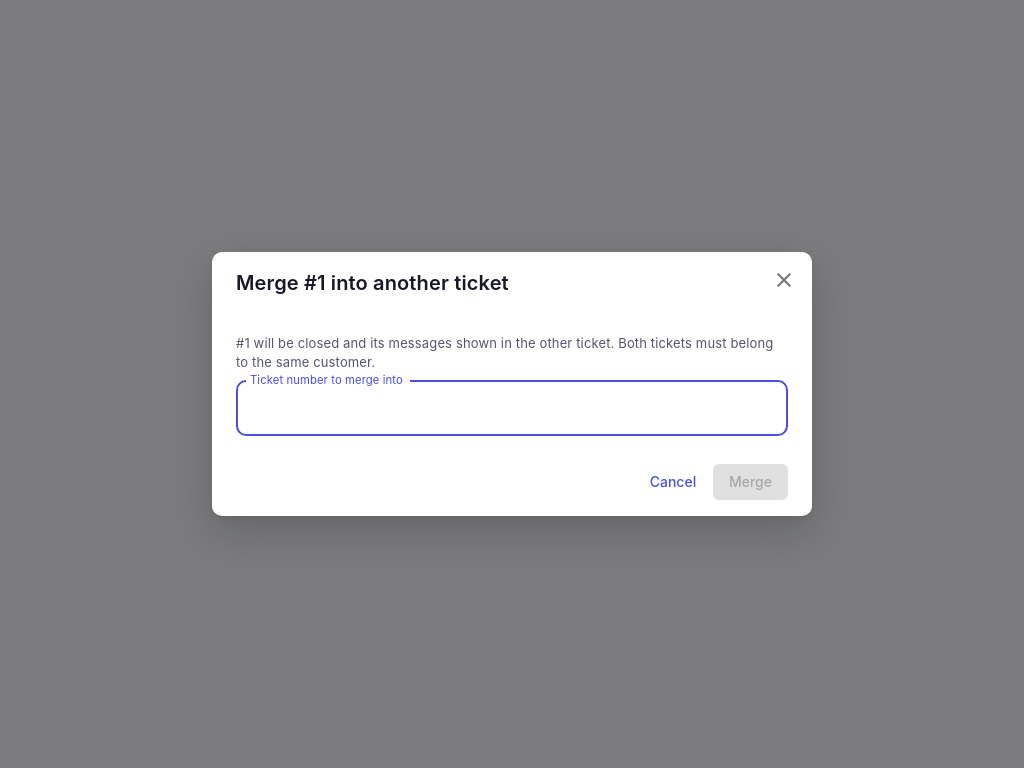
Scenario: MergeTicketDialog › shows the error the merge rejects with
The image size is (1024, 768).
Type "2" into the field labelled "Ticket number to merge into". click: (512, 408)
box: [236, 381, 788, 436]
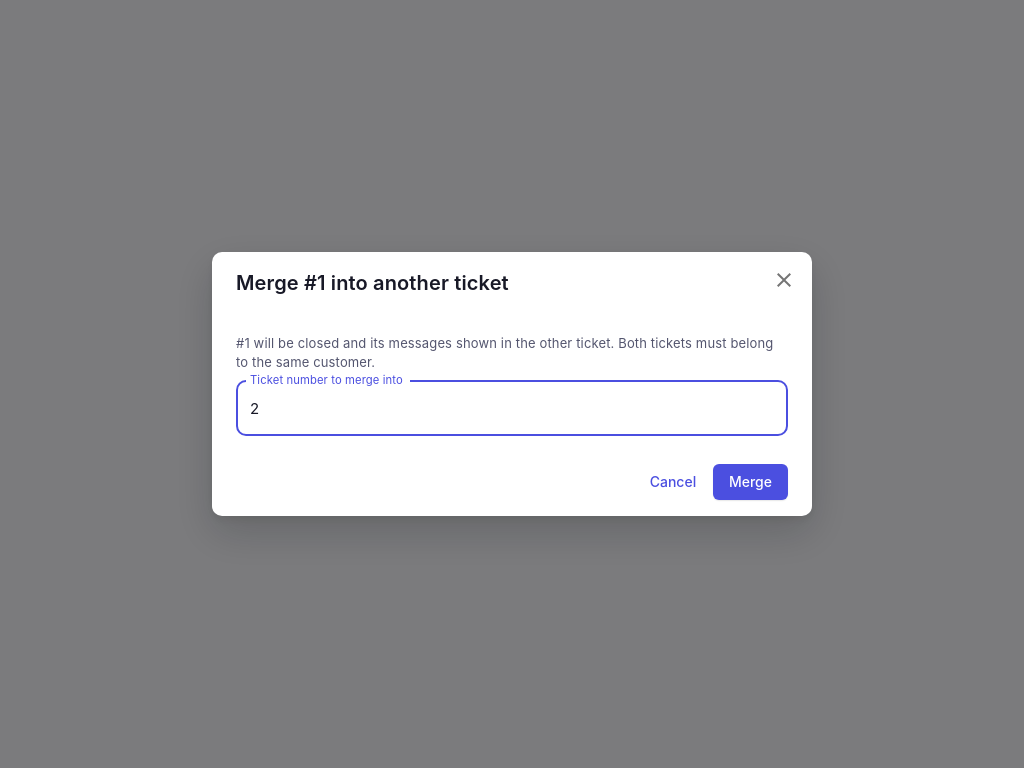
Click the button "Merge". click: (750, 482)
box: [713, 464, 788, 500]
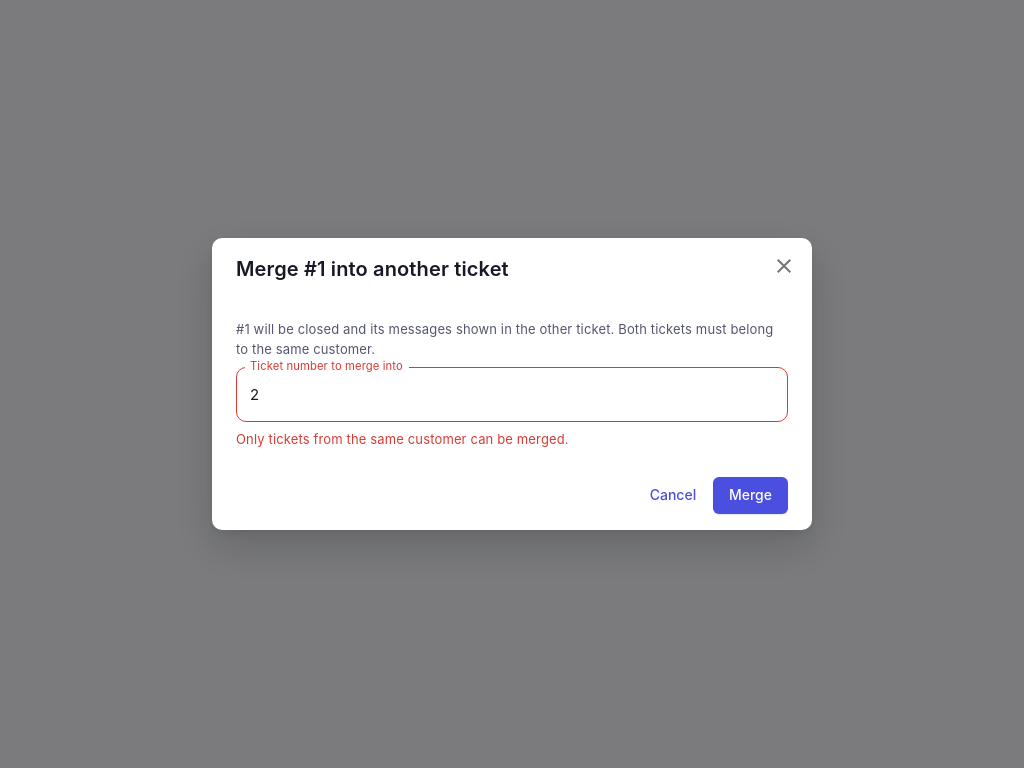
Result: the message reads "Only tickets from the same customer can be merged." at [236, 431, 569, 447]
